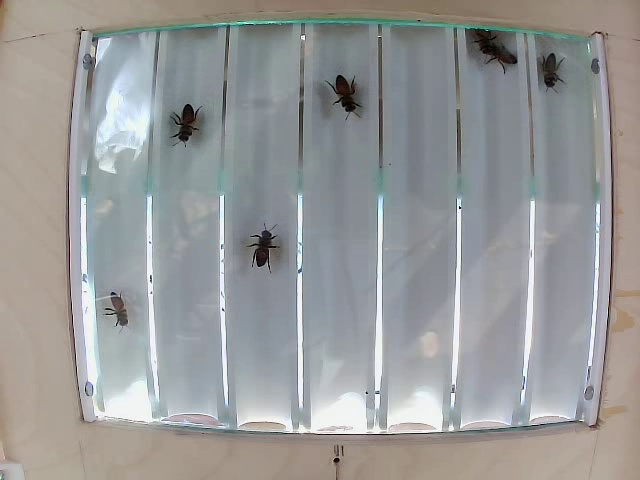bee: (239, 224, 279, 281), (161, 99, 201, 150), (101, 286, 141, 324), (335, 72, 365, 120), (481, 36, 519, 69), (540, 47, 562, 99), (466, 23, 492, 47)
